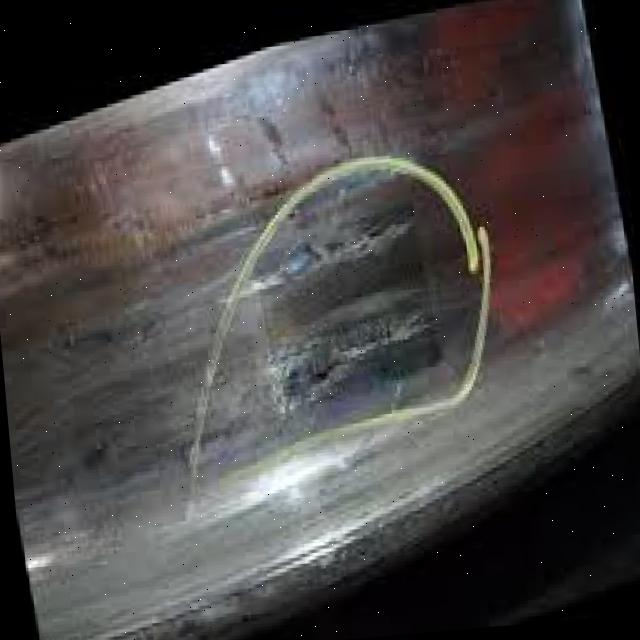Rollerpile: (229, 204, 467, 450)
